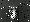person: (9, 7, 20, 21)
